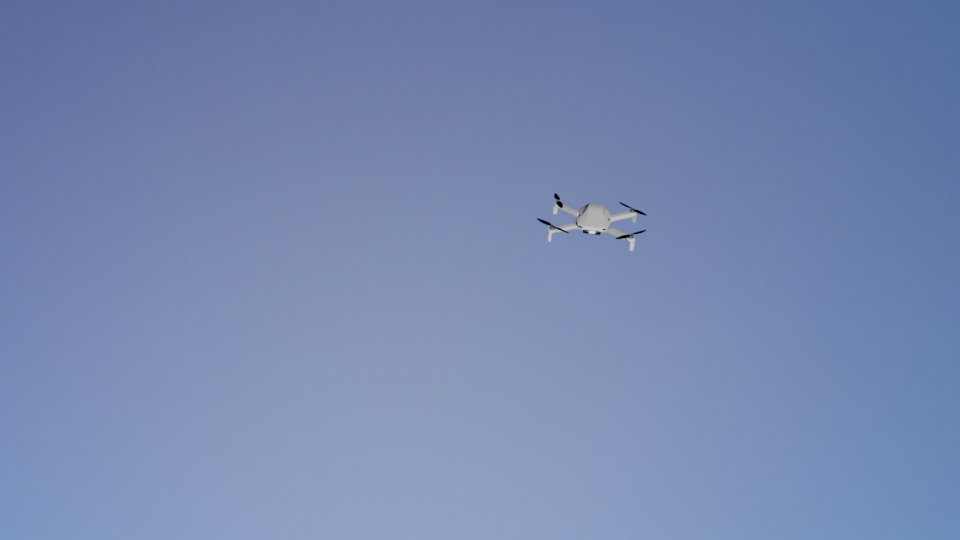drone: (537, 193, 645, 251)
